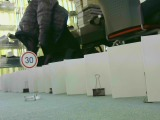speed_30: (19, 50, 38, 70)
